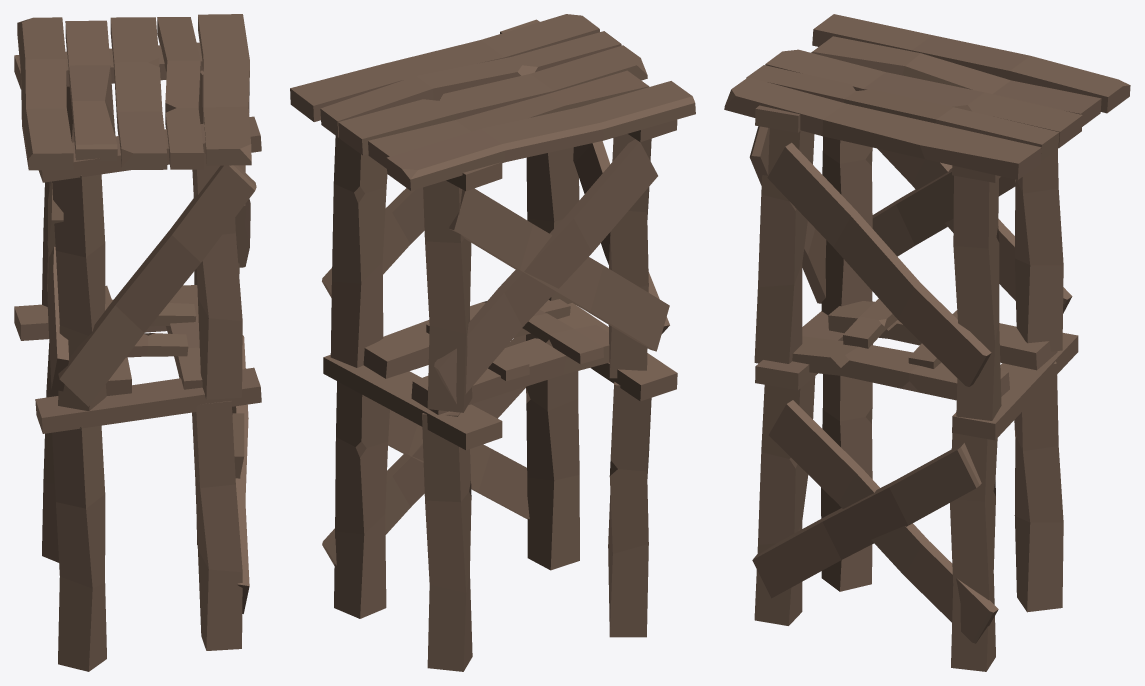
Rendered from env2.fbx.
3 views of the same model, side by side, from view 1: azimuth 30°, elevation 25°; view 2: azimuth 150°, elevation 25°; view 3: azimuth 270°, elevation 25° (orthographic). The views are drawn at different scales.
Parts seen in each view (by area): view 1: Cube.006; view 2: Cube.006; view 3: Cube.006.
Boxes of the visible parts, x1,y1,x2,y2 form: Cube.006: [14, 14, 261, 671]; Cube.006: [290, 14, 695, 671]; Cube.006: [724, 14, 1130, 671].
Bounding box in the file's own units: 3.16 × 5.27 × 3.57.
